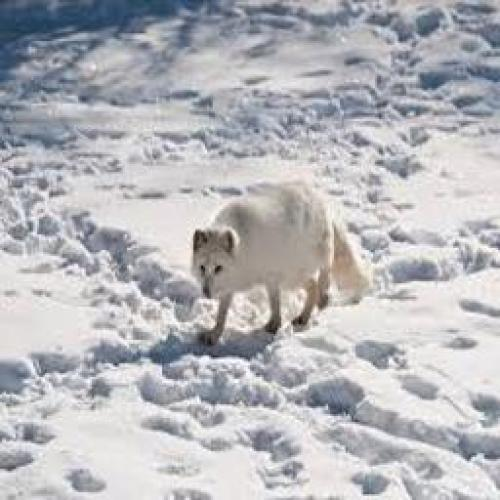arctic_fox-endangered: (169, 169, 380, 351)
